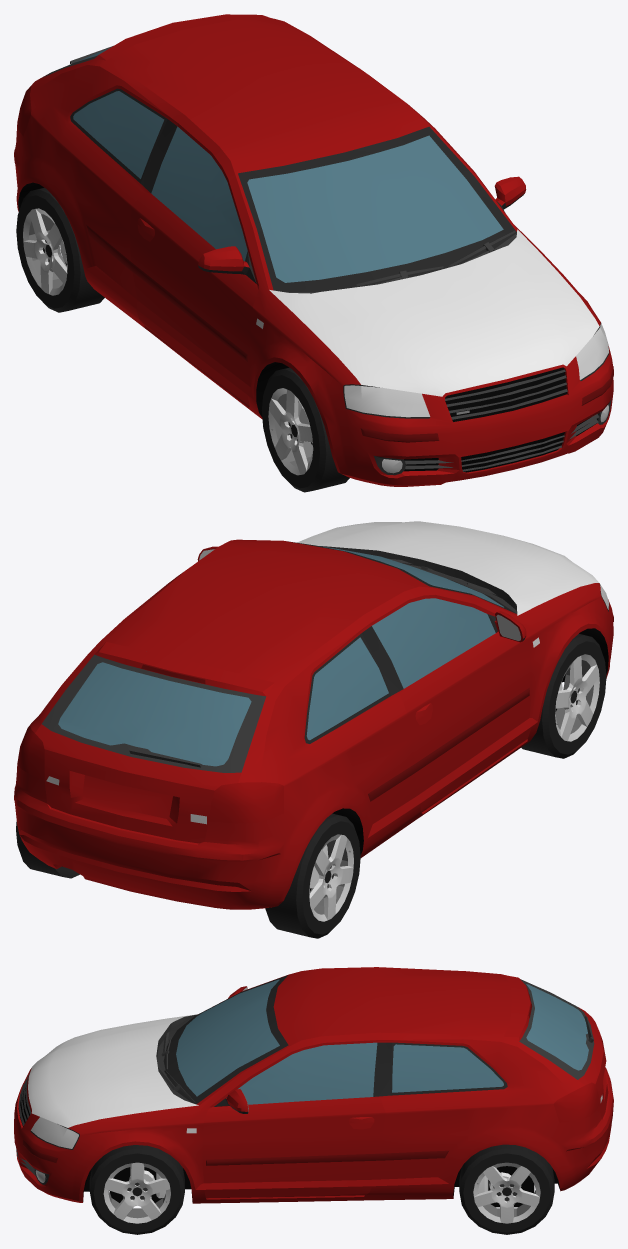
3 views of the same model, one above another, from view 1: azimuth 30°, elevation 25°; view 2: azimuth 150°, elevation 25°; view 3: azimuth 270°, elevation 25° (orthographic). The views are drawn at different scales.
Parts seen in each view (by area): view 1: Base_001, Hood_001, Left Front_002, Left Front_003, Trunk_001; view 2: Base_001, Trunk_001, Hood_001, Left Front_002, Left Front_003, Tail Light_001, Left Front_004; view 3: Base_001, Hood_001, Left Front_004, Left Front_001, Trunk_001, Tail Light_001.
Boxes of the visible parts, x1=… form: Base_001: x1=14, y1=18, x2=613, y2=486; Hood_001: x1=269, y1=229, x2=599, y2=396; Left Front_002: x1=16, y1=187, x2=104, y2=312; Left Front_003: x1=261, y1=367, x2=349, y2=492; Trunk_001: x1=38, y1=14, x2=273, y2=79; Base_001: x1=14, y1=539, x2=613, y2=909; Trunk_001: x1=35, y1=642, x2=274, y2=843; Hood_001: x1=297, y1=521, x2=598, y2=615; Left Front_002: x1=265, y1=813, x2=360, y2=938; Left Front_003: x1=521, y1=634, x2=606, y2=758; Tail Light_001: x1=17, y1=724, x2=283, y2=823; Left Front_004: x1=16, y1=821, x2=79, y2=878; Base_001: x1=14, y1=967, x2=613, y2=1203; Hood_001: x1=28, y1=1014, x2=198, y2=1127; Left Front_004: x1=459, y1=1144, x2=554, y2=1234; Left Front_001: x1=89, y1=1145, x2=184, y2=1234; Trunk_001: x1=504, y1=975, x2=608, y2=1119; Tail Light_001: x1=554, y1=1082, x2=599, y2=1122.
Bounding box in the file's own units: 1.91 × 1.4 × 4.06.
